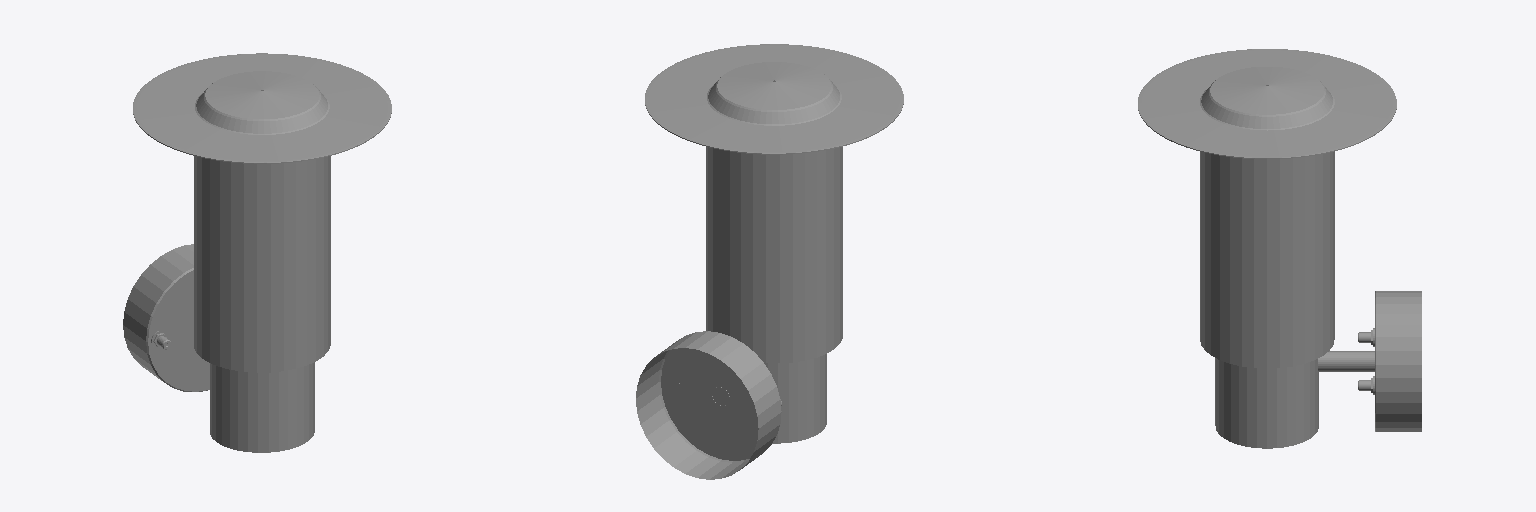
The model's file is sconce_04.obj.
3 renders of one model, left to right at view 1: azimuth 30°, elevation 25°; view 2: azimuth 150°, elevation 25°; view 3: azimuth 270°, elevation 25°, orthographic.
Parts seen in each view (by area): view 1: sconce_04; view 2: sconce_04; view 3: sconce_04.
Boxes of the visible parts, <box> form: sconce_04: <box>123,53,391,452</box>; sconce_04: <box>636,44,903,479</box>; sconce_04: <box>1138,49,1421,448</box>.
Bounding box in the file's own units: 0.0576 × 0.0834 × 0.0633.